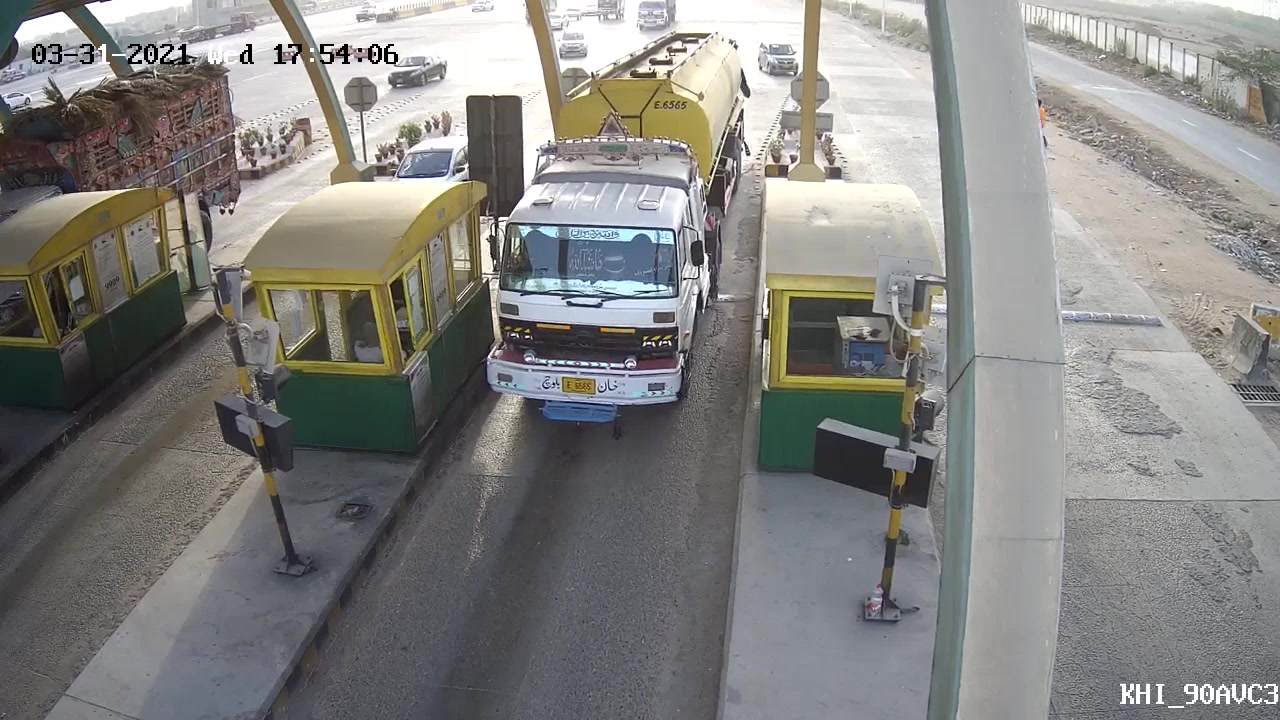F6: (480, 27, 760, 437)
